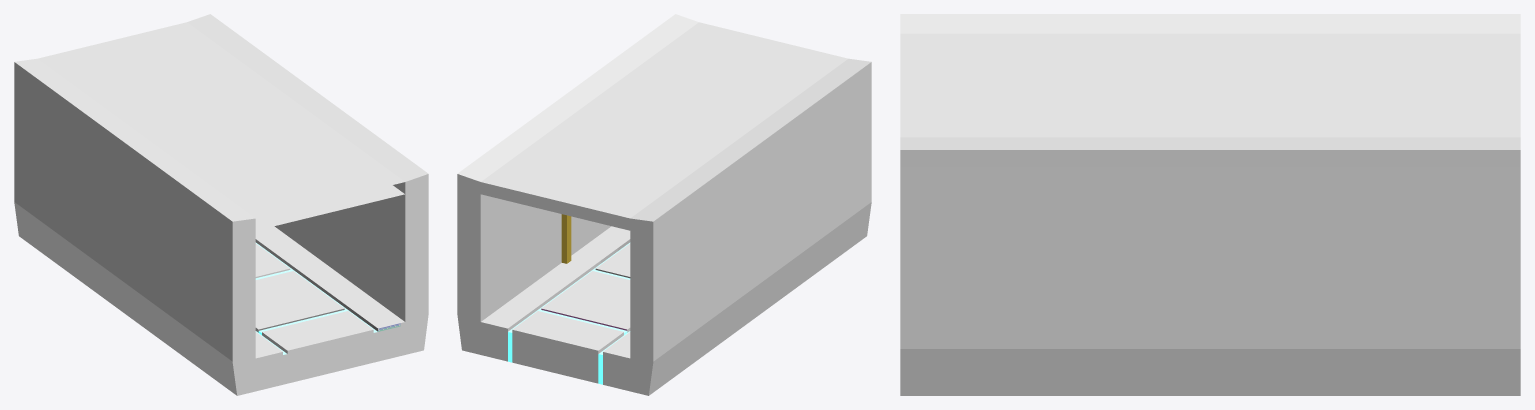
File: Bridge .fbx
The picture shows the model from 3 angles, left to right: view 1: azimuth 30°, elevation 25°; view 2: azimuth 150°, elevation 25°; view 3: azimuth 270°, elevation 25°; orthographic projection. The views are drawn at different scales.
Parts seen in each view (by area): view 1: Cube.004; view 2: Cube.004; view 3: Cube.004.
Part boxes in pixels (box(x1,y1,x2,y2)): Cube.004: box(14, 14, 428, 395); Cube.004: box(457, 14, 871, 395); Cube.004: box(900, 14, 1520, 395).
Size of the model in its own units: 623 by 532 by 1200.
